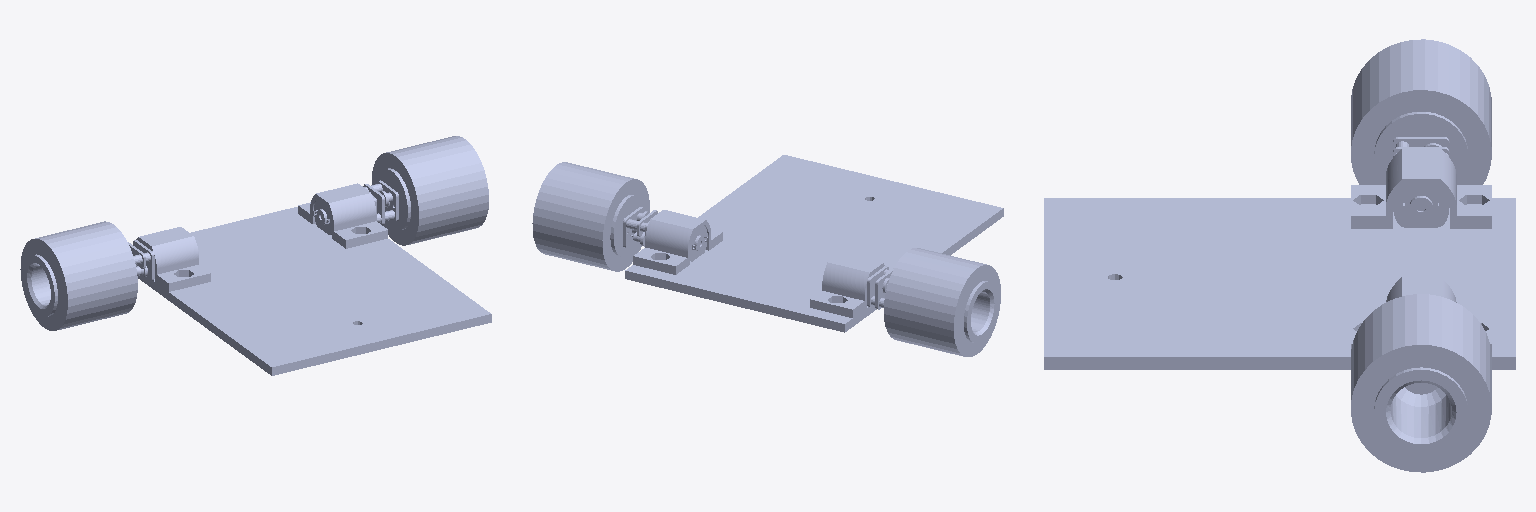
URDF robot description (urdf_tutorial):
<?xml version="1.0" encoding="utf-8"?>
<!-- This URDF was automatically created by SolidWorks to URDF Exporter! Originally created by
Stephen Brawner (brawner@gmail.com) 
     Commit Version: 1.6.0-4-g7f85cfe  Build Version: 1.6.7995.38578
     For more information, please see http://wiki.ros.org/sw_urdf_exporter -->
<robot name="urdf_tutorial">
  <link name="base_link">
    <inertial>
      <origin
        xyz="-0.04 0.0028818 0.043462"
        rpy="0 0 0" />
      <mass
        value="0.031023" />
      <inertia
        ixx="2.0293E-05"
        ixy="-1.8776E-23"
        ixz="1.2583E-10"
        iyy="3.312E-05"
        iyz="1.9177E-23"
        izz="1.3003E-05" />
    </inertial>
    <visual>
      <origin
        xyz="0 0 0"
        rpy="0 0 0" />
      <geometry>
        <mesh
          filename="package://gazebo_simulation/meshes/base_link.STL" />
      </geometry>
      <material
        name="">
        <color
          rgba="0.79216 0.81961 0.93333 1" />
      </material>
    </visual>
    <collision>
      <origin
        xyz="0 0 0"
        rpy="0 0 0" />
      <geometry>
        <mesh
          filename="package://gazebo_simulation/meshes/base_link.STL" />
      </geometry>
    </collision>
  </link>
  <link
    name="W_L">
    <inertial>
      <origin
        xyz="-2.5666E-10 0.01729 5.4676E-05"
        rpy="0 0 0" />
      <mass
        value="0.015875" />
      <inertia
        ixx="1.9146E-06"
        ixy="3.728E-14"
        ixz="-6.8593E-14"
        iyy="1.9811E-06"
        iyz="5.8979E-09"
        izz="1.9189E-06" />
    </inertial>
    <visual>
      <origin
        xyz="0 0 0"
        rpy="0 0 0" />
      <geometry>
        <mesh
          filename="package://gazebo_simulation/meshes/W_L.STL" />
      </geometry>
      <material
        name="">
        <color
          rgba="0.79216 0.81961 0.93333 1" />
      </material>
    </visual>
    <collision>
      <origin
        xyz="0 0 0"
        rpy="0 0 0" />
      <geometry>
        <mesh
          filename="package://gazebo_simulation/meshes/W_L.STL" />
      </geometry>
    </collision>
  </link>
  <joint
    name="W_L_joint"
    type="continuous">
    <origin
      xyz="0.006 -0.02 0.008"
      rpy="0 0 -1.571" />
    <parent
      link="base_link" />
    <child
      link="W_L" />
    <axis
      xyz="0 1 0" />
  </joint>
  <link
    name="W_R">
    <inertial>
      <origin
        xyz="-2.5666E-10 0.01729 5.4676E-05"
        rpy="0 0 0" />
      <mass
        value="0.015875" />
      <inertia
        ixx="1.9146E-06"
        ixy="3.728E-14"
        ixz="-6.8593E-14"
        iyy="1.9811E-06"
        iyz="5.8979E-09"
        izz="1.9189E-06" />
    </inertial>
    <visual>
      <origin
        xyz="0 0 0"
        rpy="0 0 0" />
      <geometry>
        <mesh
          filename="package://gazebo_simulation/meshes/W_R.STL" />
      </geometry>
      <material
        name="">
        <color
          rgba="0.79216 0.81961 0.93333 1" />
      </material>
    </visual>
    <collision>
      <origin
        xyz="0 0 0"
        rpy="0 0 0" />
      <geometry>
        <mesh
          filename="package://gazebo_simulation/meshes/W_R.STL" />
      </geometry>
    </collision>
  </link>
  <joint
    name="W_R_joint"
    type="continuous">
    <origin
      xyz="-0.086 -0.02 0.008"
      rpy="0 0 1.571" />
    <parent
      link="base_link" />
    <child
      link="W_R" />
    <axis
      xyz="0 1 0" />
  </joint>
</robot>

--- What the picture shows (computed from the rendered views, not written in the file) ---
Views: 3 orthographic renders of the robot side by side, from view 1: azimuth 30°, elevation 25°; view 2: azimuth 150°, elevation 25°; view 3: azimuth 270°, elevation 25°.
Robot: urdf_tutorial — 3 links, 2 joints (2 continuous); root link base_link; default pose: all joints at 0.
Links seen in each view (by area): view 1: base_link, W_R, W_L; view 2: base_link, W_R, W_L; view 3: base_link, W_L, W_R.
Boxes of the visible links, x1=… form: base_link: x1=128, y1=180, x2=491, y2=375; W_R: x1=20, y1=221, x2=137, y2=330; W_L: x1=372, y1=136, x2=488, y2=245; base_link: x1=623, y1=155, x2=1003, y2=332; W_R: x1=884, y1=248, x2=1000, y2=356; W_L: x1=532, y1=162, x2=649, y2=271; base_link: x1=1044, y1=137, x2=1515, y2=369; W_L: x1=1351, y1=294, x2=1491, y2=472; W_R: x1=1351, y1=39, x2=1491, y2=184.
Size in the robot's own frame: 0.1572 by 0.1 by 0.03 metres.
3 mesh visuals loaded from 3 distinct referenced files (3 binary STL).
